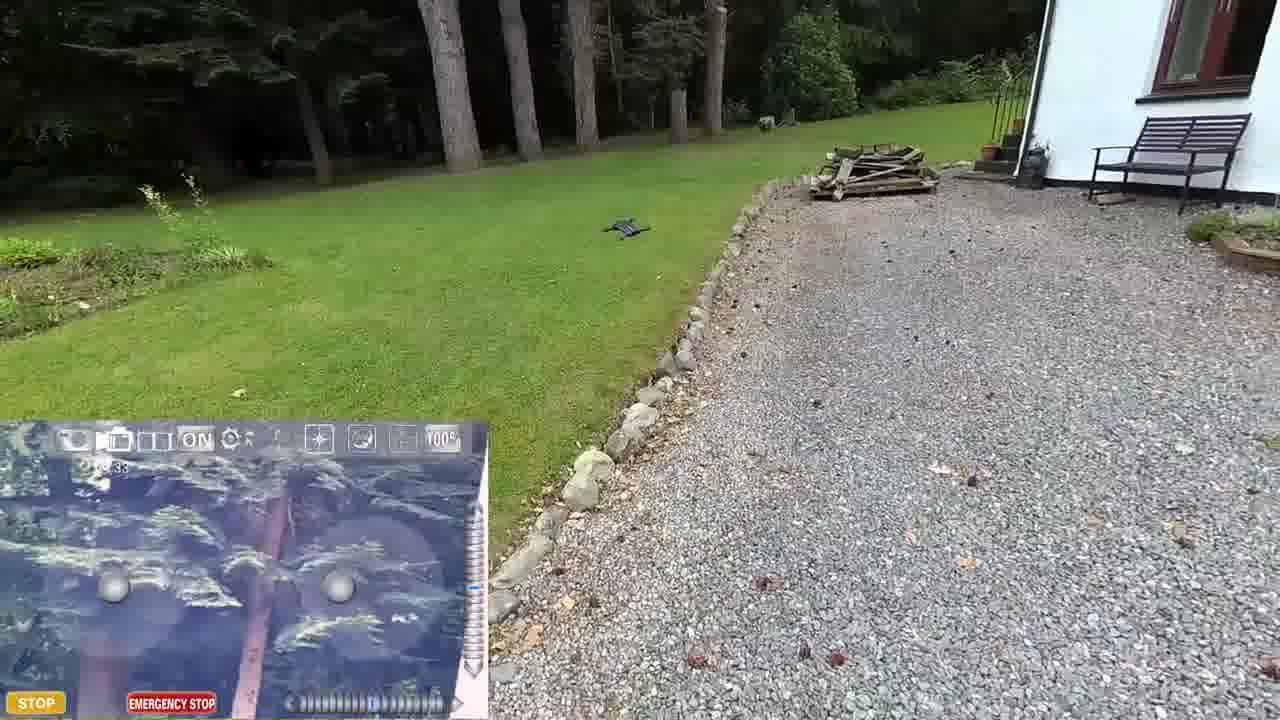drone: (596, 207, 658, 246)
